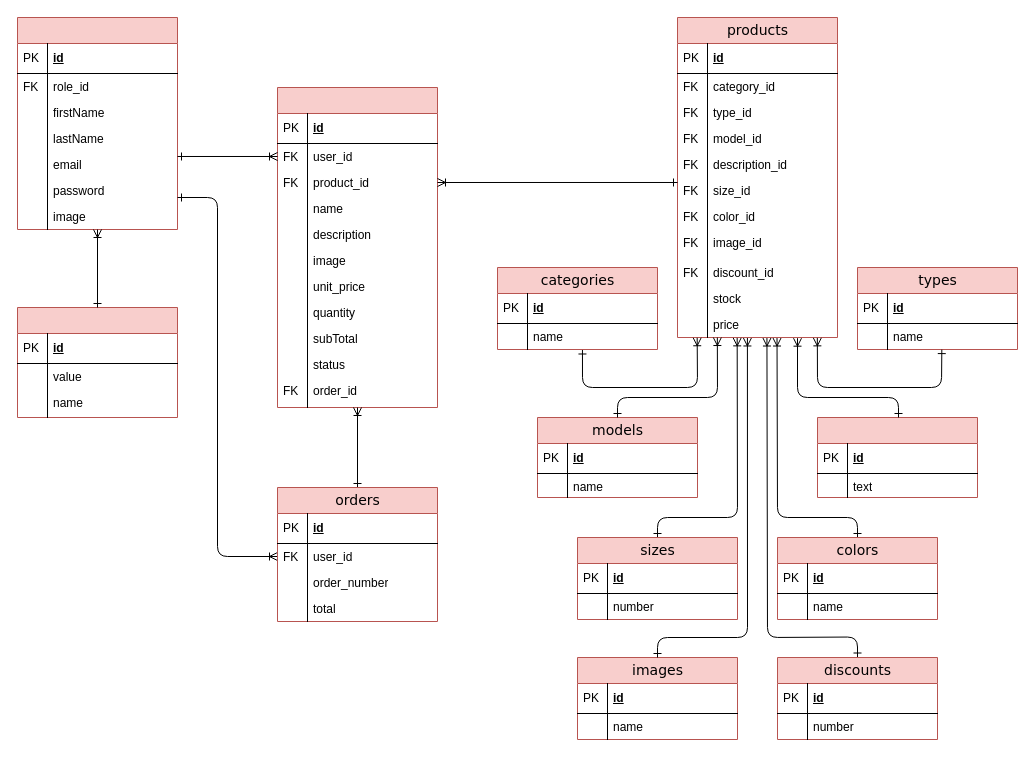
Image size: 1035x760. Some labels were removed from this diagram. The shapes that lost their labels are listed below. From the top down, each one's box as (x1, y1, x2, y2) in pixels, then its label:
(16, 16, 178, 230): users
(276, 86, 438, 408): items
(16, 306, 178, 418): roles
(816, 416, 978, 498): descriptions
